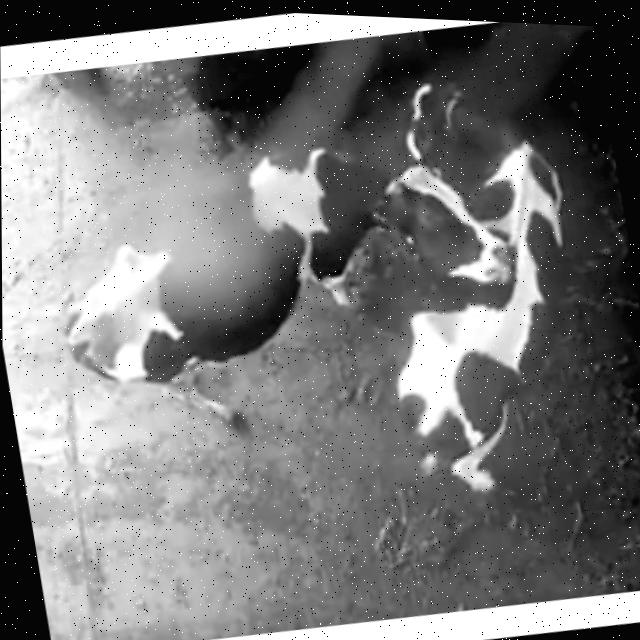propping: (329, 134, 547, 330)
